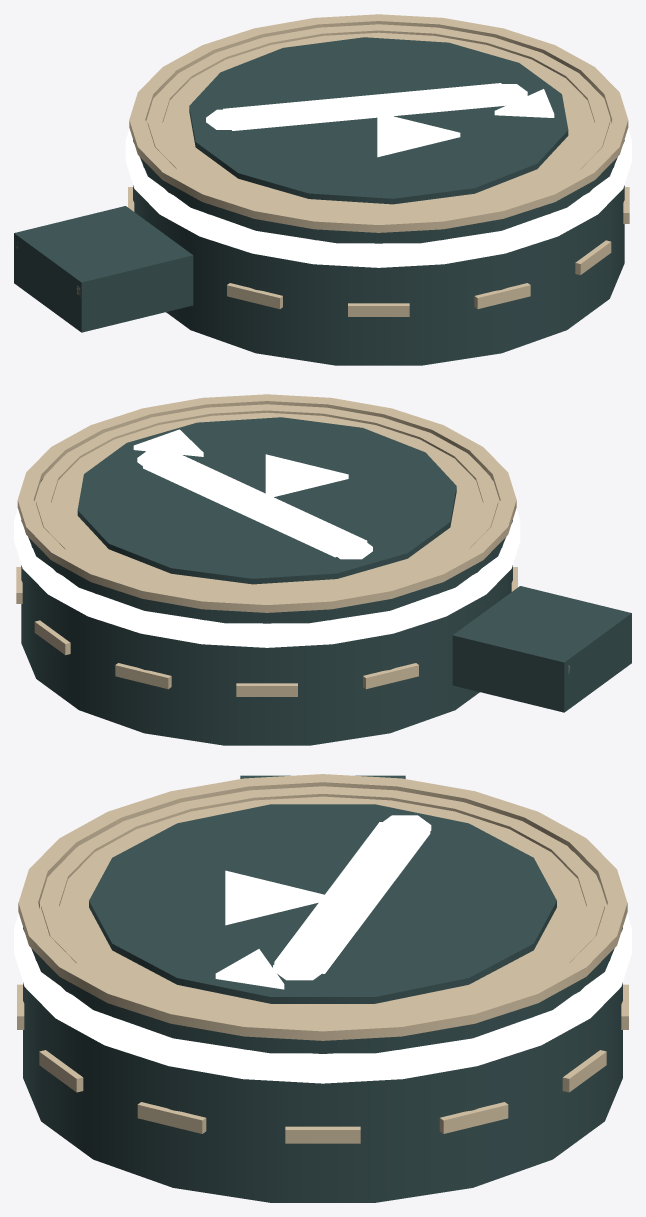
File: Relay_Button_Tilt_v3_lab2.glb
3 views of the same model, one above another, from view 1: azimuth 30°, elevation 25°; view 2: azimuth 150°, elevation 25°; view 3: azimuth 270°, elevation 25° (orthographic). The views are drawn at different scales.
Visible parts, largest first — view 1: Relay_Button_Tilt_v3, Glyph, Strut; view 2: Relay_Button_Tilt_v3, Glyph, Strut; view 3: Relay_Button_Tilt_v3, Glyph.
Boxes of the visible parts, <box> form: Relay_Button_Tilt_v3: <box>125,14,631,365</box>; Glyph: <box>189,37,568,204</box>; Strut: <box>14,206,193,332</box>; Relay_Button_Tilt_v3: <box>14,394,520,745</box>; Glyph: <box>77,417,456,584</box>; Strut: <box>452,586,631,712</box>; Relay_Button_Tilt_v3: <box>14,774,631,1202</box>; Glyph: <box>89,804,556,1003</box>.
Bounding box in the file's own units: 5.17 × 2.05 × 4.12.
